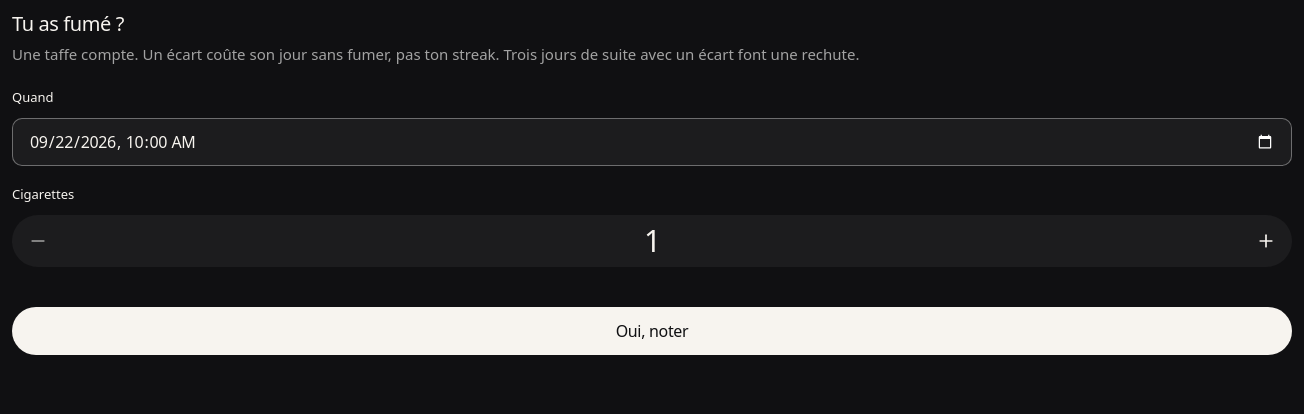
Test case: refuses a lapse in the future and says why
Replace the text in the field labelled "Quand" with "2026-09-22T11:00". click: point(652, 142)
box: [12,118,1292,166]
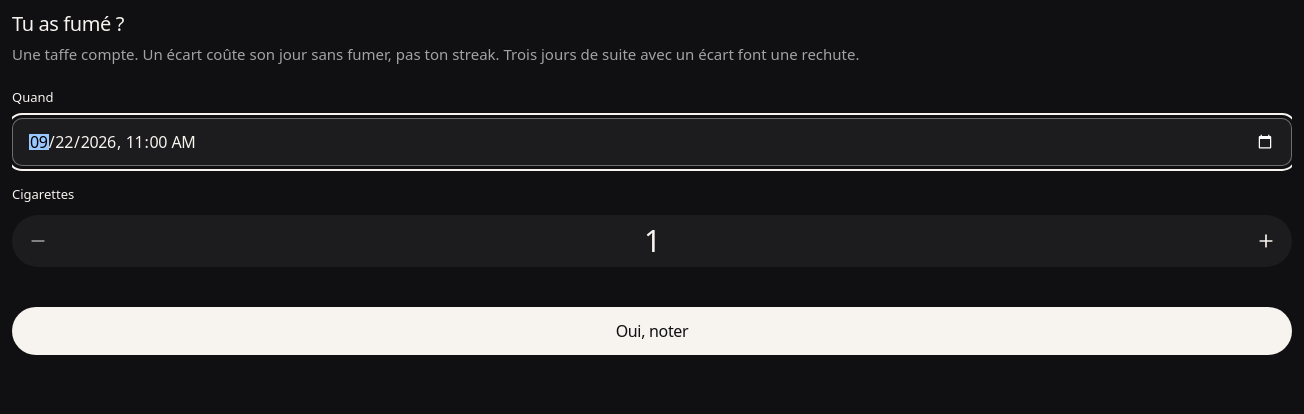
Click the button "Oui, noter". click: point(652, 331)
box: [12,307,1292,355]
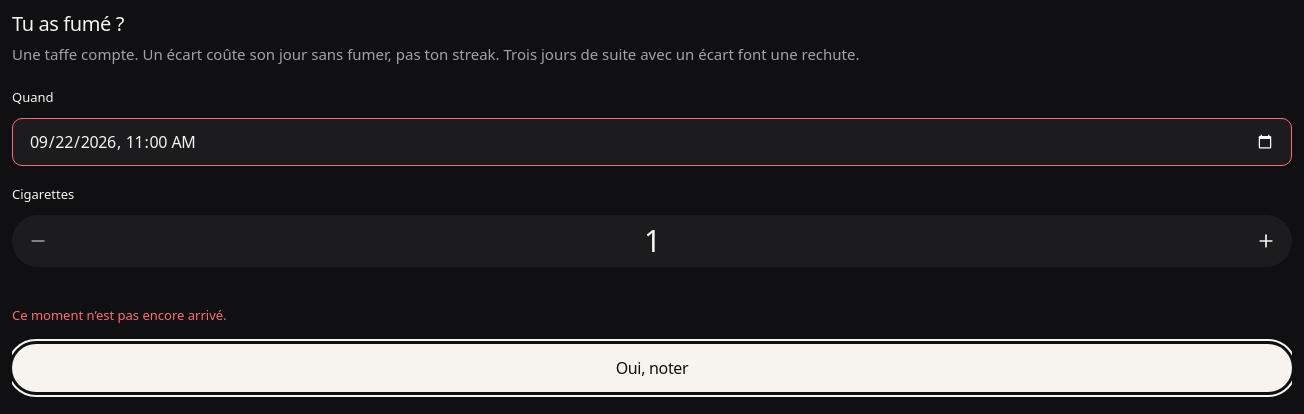
Result: the message reads "Ce moment n’est pas encore arrivé." at [12,306,227,324]
